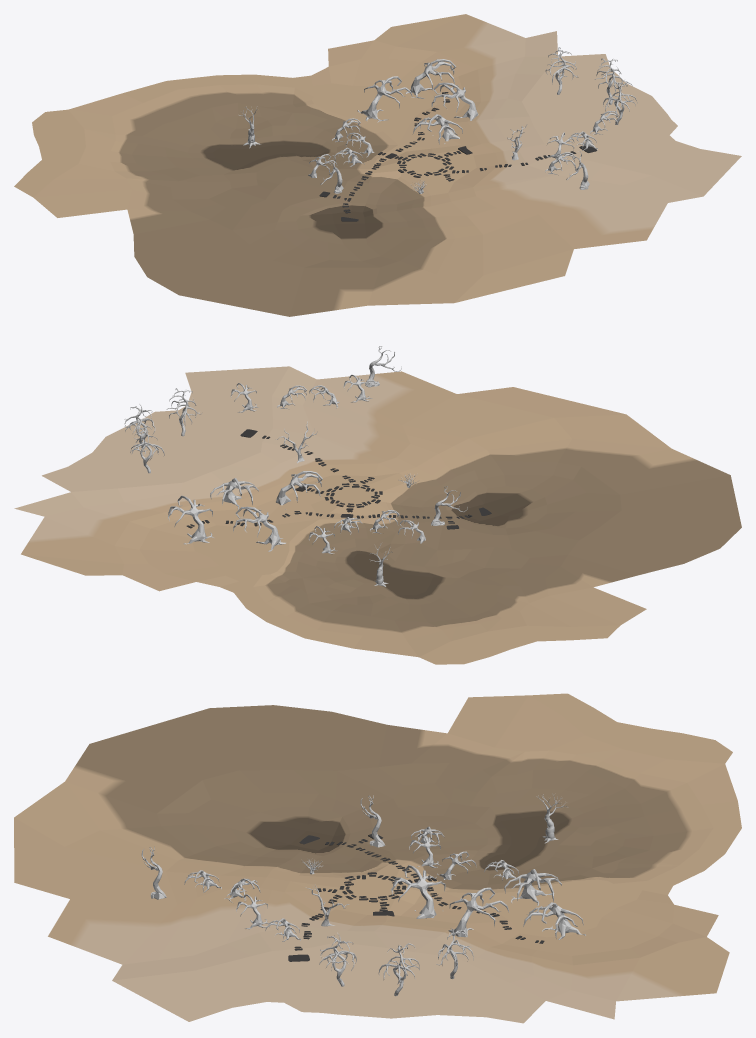
The model's file is lowerTerrainB_paths.gltf.
3 views of the same model, one above another, from view 1: azimuth 30°, elevation 25°; view 2: azimuth 150°, elevation 25°; view 3: azimuth 270°, elevation 25° (orthographic). The views are drawn at different scales.
Parts seen in each view (by area): view 1: lowerTerrain, HWN20_Tree_07.003, HWN20_Tree_07, HWN20_Tree_07.001, HWN20_Tree_07.002; view 2: lowerTerrain, HWN20_Tree_07, HWN20_Tree_07.003, HWN20_Tree_07.002, HWN20_Tree_07.001; view 3: lowerTerrain, HWN20_Tree_07.002, HWN20_Tree_07.003, HWN20_Tree_07, HWN20_Tree_07.001, HWN20_Tree_08.002, HWN20_Tree_08.
Part boxes in pixels (<box>): lowerTerrain: <box>14,14,741,316</box>; HWN20_Tree_07.003: <box>357,76,412,122</box>; HWN20_Tree_07: <box>405,59,455,98</box>; HWN20_Tree_07.001: <box>431,82,478,120</box>; HWN20_Tree_07.002: <box>412,114,462,144</box>; lowerTerrain: <box>14,366,741,664</box>; HWN20_Tree_07: <box>168,495,214,544</box>; HWN20_Tree_07.003: <box>233,506,285,551</box>; HWN20_Tree_07.002: <box>276,471,322,509</box>; HWN20_Tree_07.001: <box>210,478,258,509</box>; lowerTerrain: <box>14,693,741,1023</box>; HWN20_Tree_07.002: <box>391,865,445,918</box>; HWN20_Tree_07.003: <box>504,869,561,905</box>; HWN20_Tree_07: <box>523,902,585,939</box>; HWN20_Tree_07.001: <box>448,887,509,937</box>; HWN20_Tree_08.002: <box>378,943,419,996</box>; HWN20_Tree_08: <box>319,932,356,986</box>.
Size of what is drawn, in the model's own units: 146 by 18.67 by 133.
